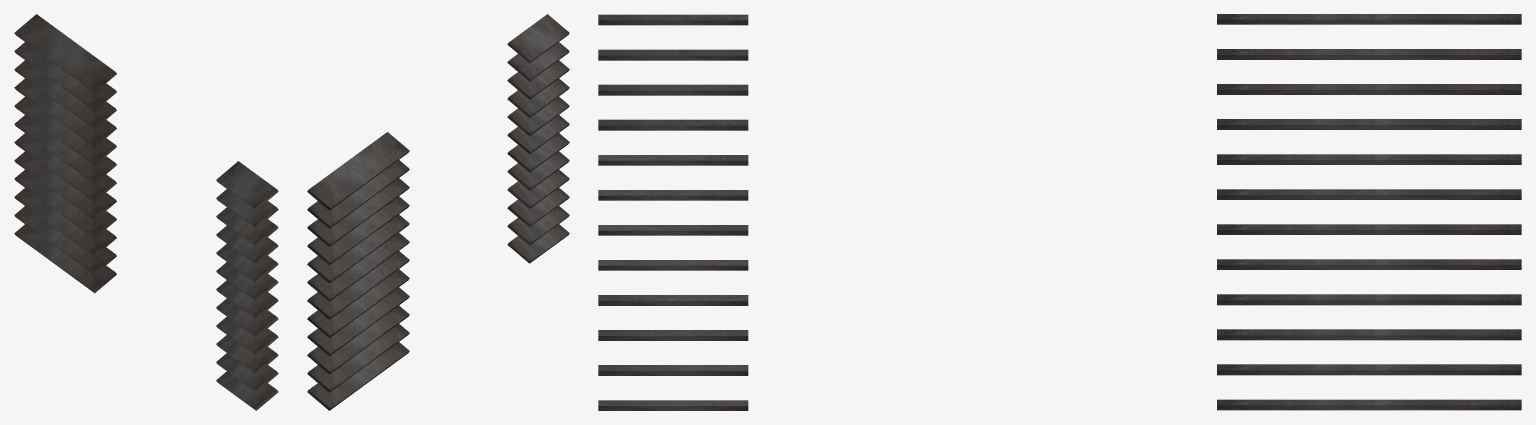
Rendered from Mazegame-blinds.glb.
The picture shows the model from 3 angles, left to right: view 1: azimuth 30°, elevation 25°; view 2: azimuth 150°, elevation 25°; view 3: azimuth 270°, elevation 25°; orthographic projection. The views are drawn at different scales.
Parts seen in each view (by area): view 1: WindowPayneLarge, WindowPayneSmall; view 2: WindowPayneLarge, WindowPayneSmall; view 3: WindowPayneLarge, WindowPayneSmall.
Part boxes in pixels (box(x1,y1,x2,y2)): WindowPayneLarge: box(14, 14, 116, 293); WindowPayneSmall: box(216, 161, 278, 410); WindowPayneLarge: box(307, 132, 409, 410); WindowPayneSmall: box(507, 14, 569, 263); WindowPayneLarge: box(1217, 14, 1521, 410); WindowPayneSmall: box(598, 14, 748, 410).
Size of what is drawn, in the model's own units: 0.6991 by 5.94 by 11.94.
2 materials, 2 textured.
